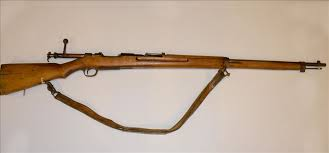Arma Real: (1, 39, 327, 94)
